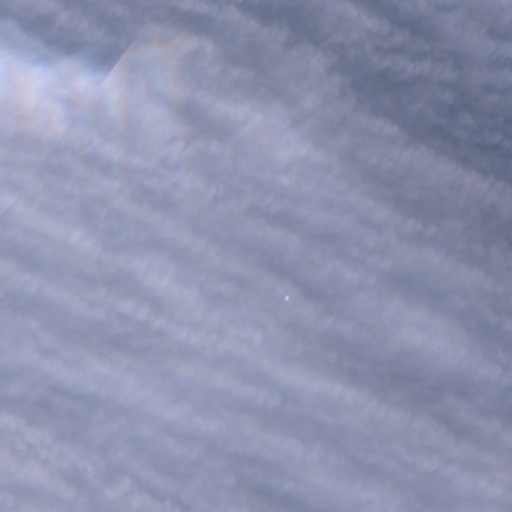Iceberg: (285, 296, 288, 299)
